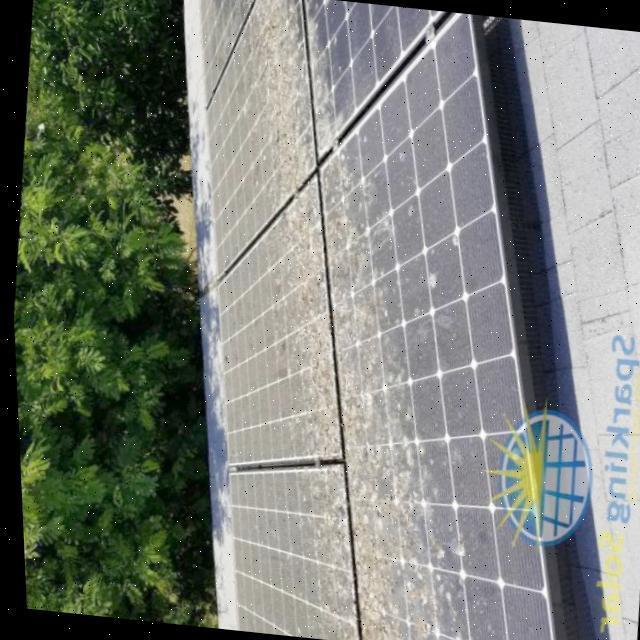Surface Contaminant: (282, 137, 501, 640), (244, 171, 354, 461), (229, 0, 322, 227), (277, 462, 365, 640), (290, 0, 355, 157), (213, 0, 263, 13)
